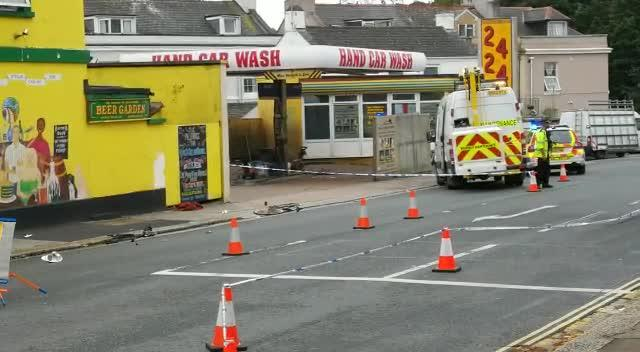cone: (200, 283, 256, 352), (422, 224, 469, 277), (218, 213, 251, 259), (348, 194, 379, 233), (400, 191, 426, 222), (520, 169, 546, 197), (554, 163, 573, 185)
